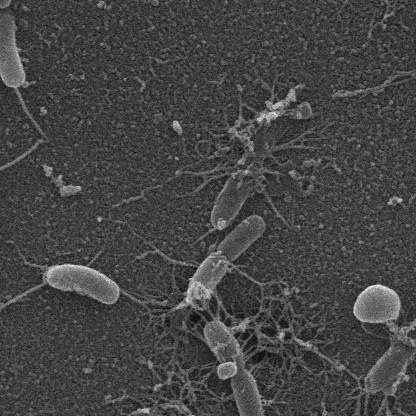cell2cell: (0, 283, 43, 380)
cell2surface: (12, 86, 53, 147), (231, 265, 281, 305), (182, 165, 242, 192), (140, 247, 204, 272), (253, 178, 287, 223), (0, 144, 39, 175), (125, 295, 167, 322), (165, 298, 192, 323)
regular: (206, 323, 264, 416), (364, 314, 416, 395), (43, 262, 120, 305), (209, 167, 256, 231), (187, 253, 226, 308), (215, 217, 265, 259), (0, 14, 23, 90)
spheroplast: (353, 283, 400, 322)
